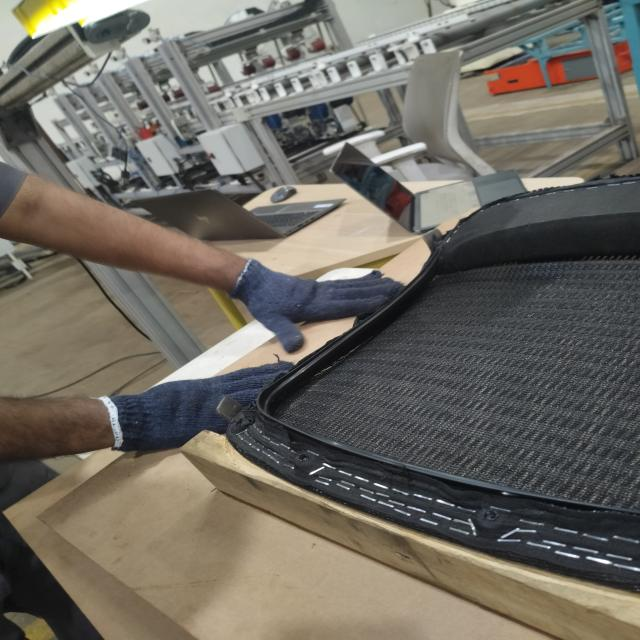Gloves-Detection: (218, 250, 390, 349), (89, 358, 278, 446)
